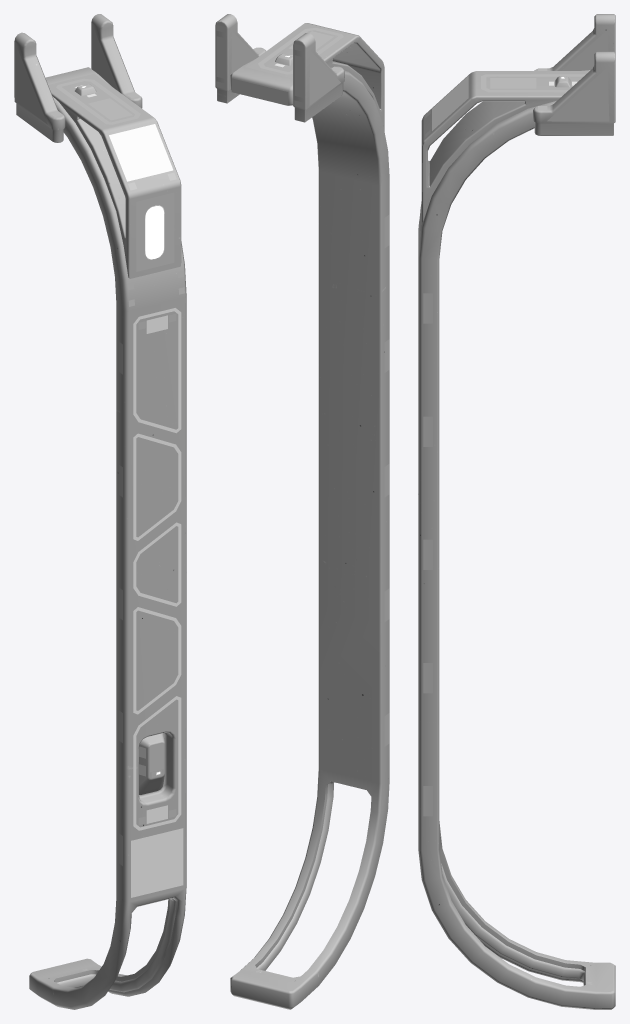
File: SM_Modular_WallSupport_1_Merged.fbx
3 renders of one model, left to right at view 1: azimuth 30°, elevation 25°; view 2: azimuth 150°, elevation 25°; view 3: azimuth 270°, elevation 25°, orthographic.
Visible parts, largest first — view 1: SM_Modular_WallSupport_1_Merged_LOD0; view 2: SM_Modular_WallSupport_1_Merged_LOD0; view 3: SM_Modular_WallSupport_1_Merged_LOD0.
Boxes of the visible parts, x1,y1,x2,y2 form: SM_Modular_WallSupport_1_Merged_LOD0: (14,14,186,1009); SM_Modular_WallSupport_1_Merged_LOD0: (215,14,389,1009); SM_Modular_WallSupport_1_Merged_LOD0: (418,14,615,1009).
Size of the model in its own units: 54.55 by 102 by 550.
